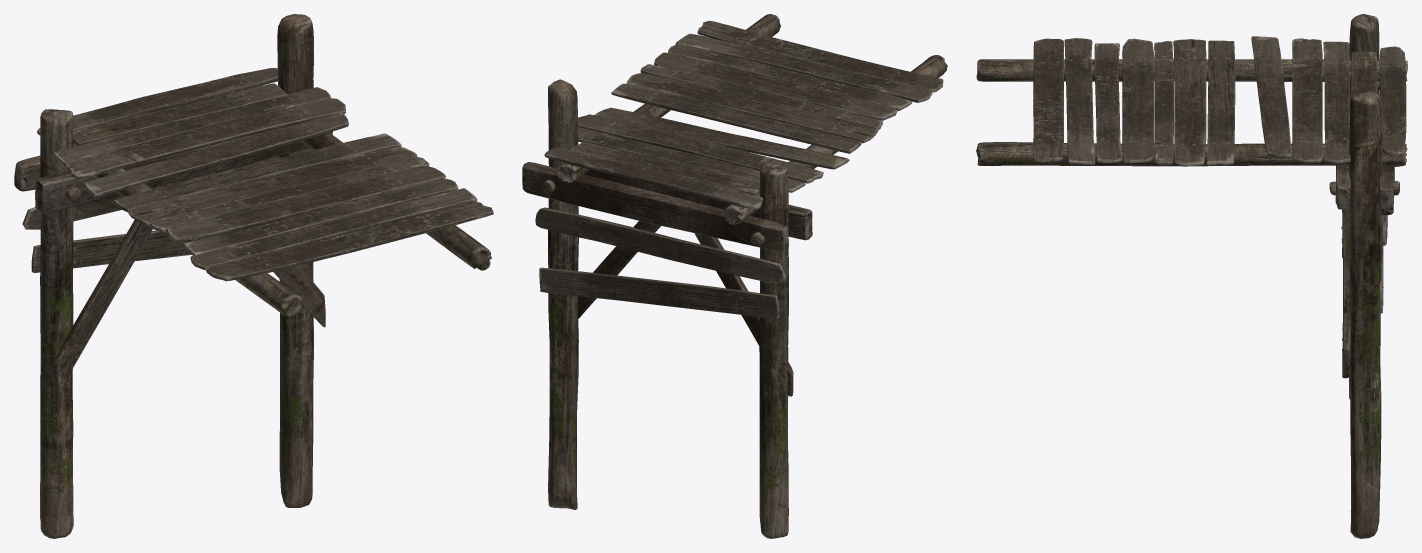
The picture shows the model from 3 angles, left to right: view 1: azimuth 30°, elevation 25°; view 2: azimuth 150°, elevation 25°; view 3: azimuth 270°, elevation 25°; orthographic projection. The views are drawn at different scales.
Parts seen in each view (by area): view 1: modular_wooden_pier_kit__e_lod0; view 2: modular_wooden_pier_kit__e_lod0; view 3: modular_wooden_pier_kit__e_lod0.
Part boxes in pixels (x1,y1,x2,y2): modular_wooden_pier_kit__e_lod0: (14, 14, 493, 538); modular_wooden_pier_kit__e_lod0: (522, 14, 947, 538); modular_wooden_pier_kit__e_lod0: (976, 14, 1407, 538).
Bounding box in the file's own units: 2.51 × 3.84 × 3.39.
2 materials, 2 textured.
